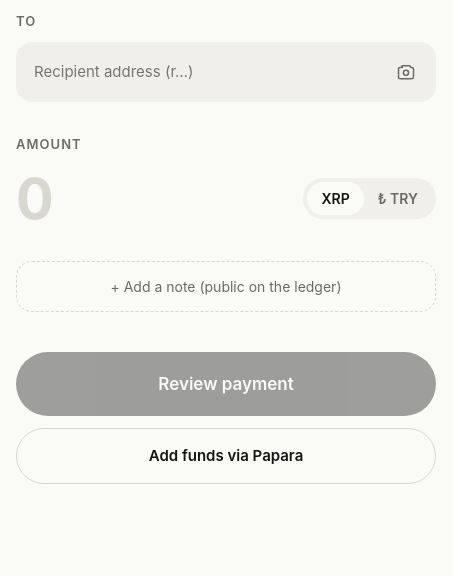
Test: SendFlow › shows valid feedback and fiat conversion, enables review
The width and height of the screenshot is (453, 576).
Type "rHb9CJAWyB4rj91VRWn96DkukG4bwdtyTh" into the field with placeholder "Recipient address (r…)" at (207, 72), box [34,62,380,81]
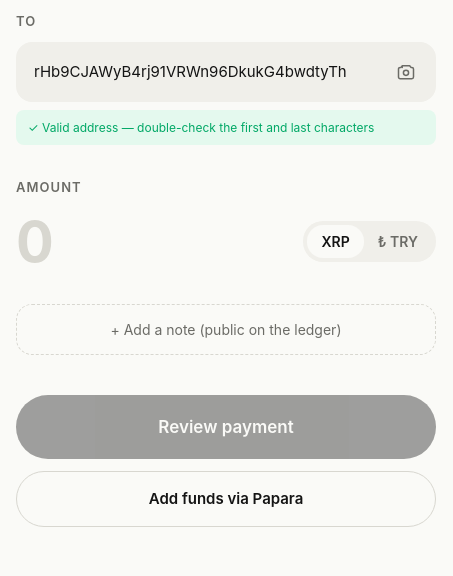
Type "10" into the number field with placeholder "0" at (152, 242), box [16,208,287,276]
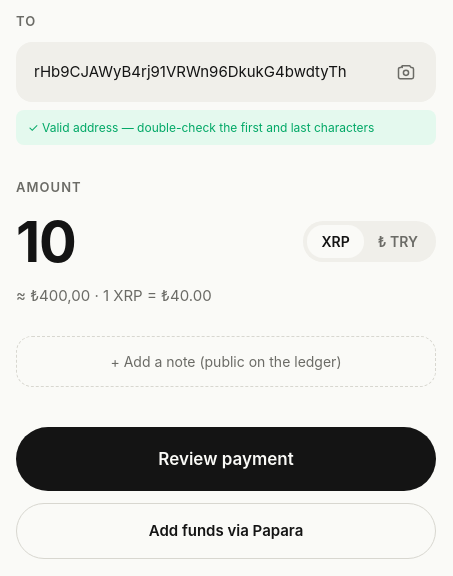
Result: the text "✓ Valid address — double-check the first and last characters" is shown at [16,110,436,145]
Result: the text "≈ ₺400,00 · 1 XRP = ₺40.00" is shown at [16,286,212,305]
Result: the button "Review payment" is enabled at [16,427,436,491]
